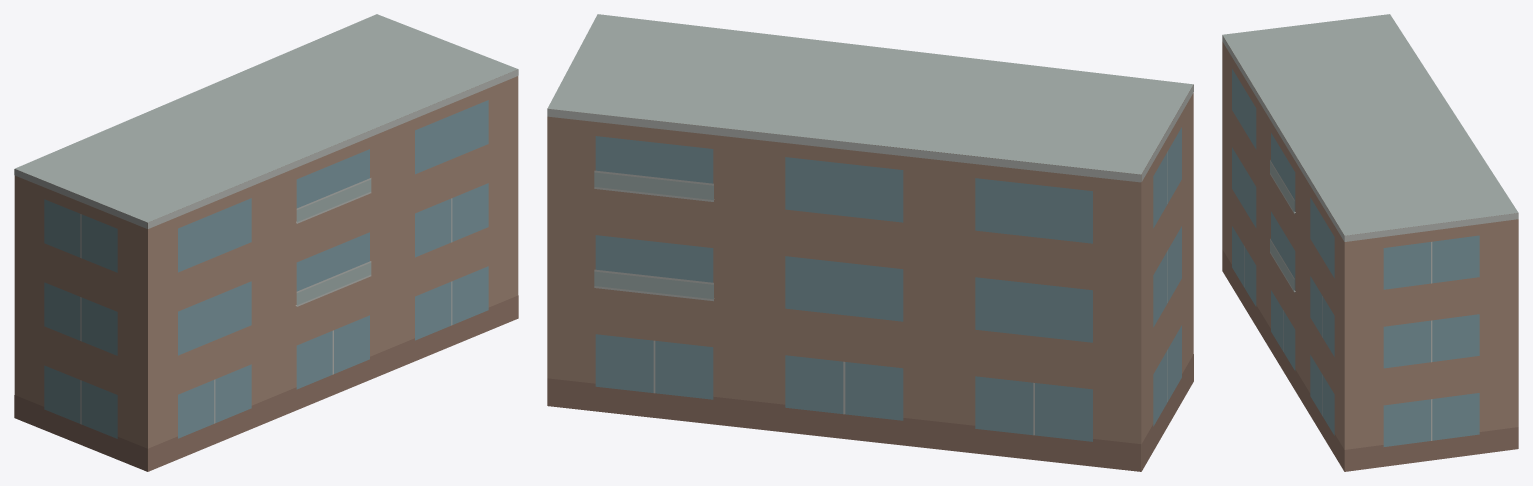
File: survey-upis-32889426.glb
3 views of the same model, side by side, from view 1: azimuth 30°, elevation 25°; view 2: azimuth 150°, elevation 25°; view 3: azimuth 270°, elevation 25° (orthographic). The views are drawn at different scales.
Parts seen in each view (by area): view 1: survey-upis-32889426.tmp; view 2: survey-upis-32889426.tmp; view 3: survey-upis-32889426.tmp.
Boxes of the visible parts, x1,y1,x2,y2 form: survey-upis-32889426.tmp: (14, 14, 518, 471); survey-upis-32889426.tmp: (547, 14, 1193, 471); survey-upis-32889426.tmp: (1222, 14, 1518, 471).
Bounding box in the file's own units: 18.45 × 9.15 × 10.42.
